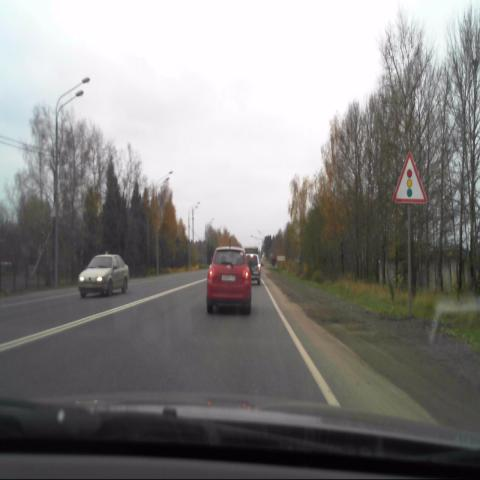1_8: (391, 150, 422, 204)
